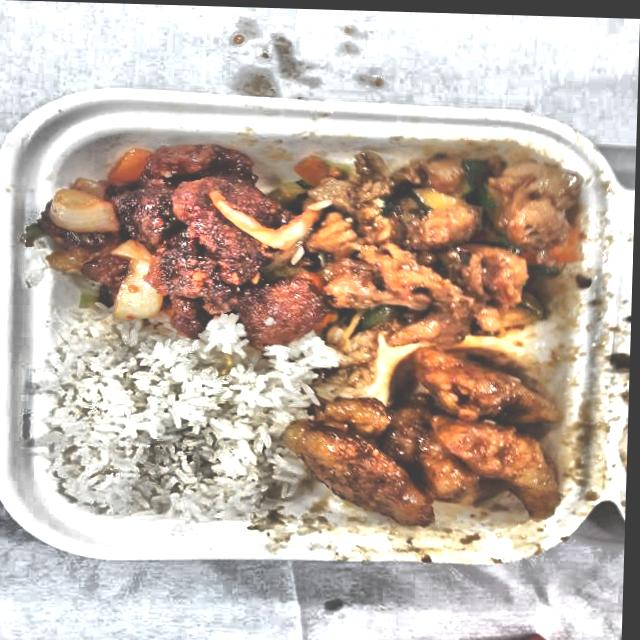Food: (295, 130, 588, 345), (294, 339, 582, 533), (36, 127, 312, 327), (38, 320, 307, 523)
